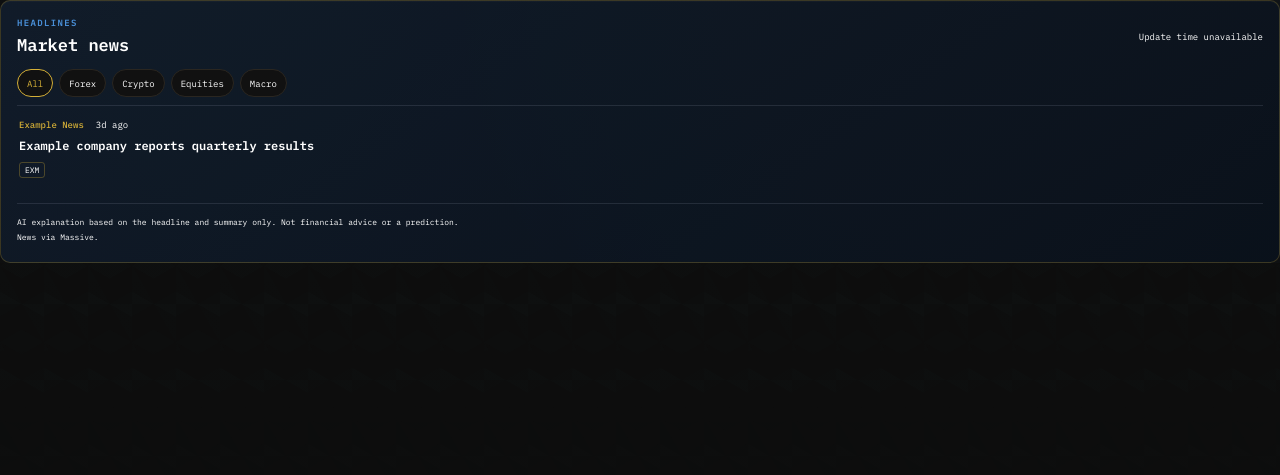
Test case: NewsFeed › shows an explanation rate-limit message and allows retry
expect the text "Example company reports quarterly results" is shown: met, box [19, 138, 314, 153]
Click the button "Example company reports quarterly results" at (51, 124), box [17, 106, 1263, 191]
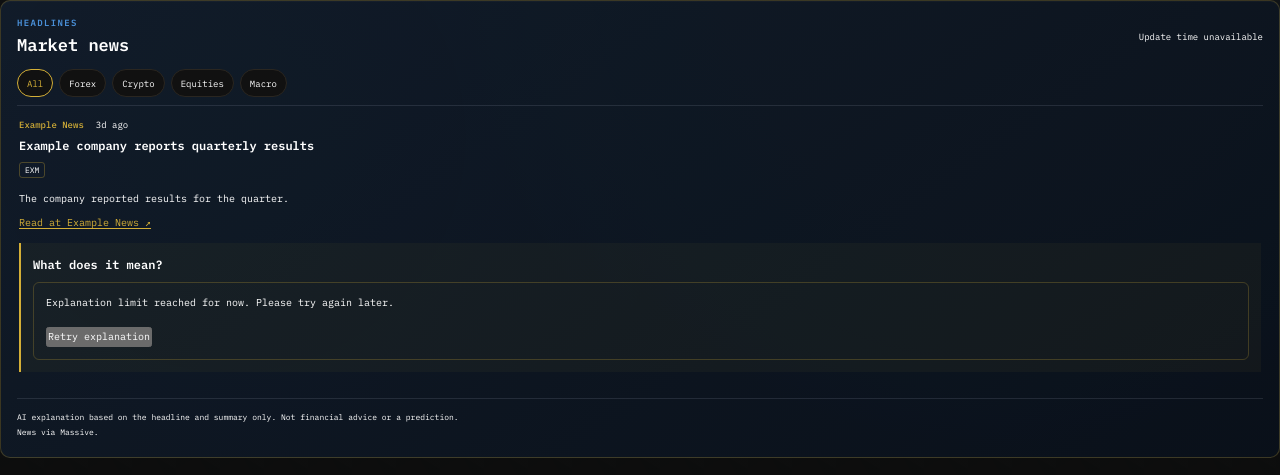
expect the text "Explanation limit reached for now. Please try again later." is shown: met, box [46, 296, 394, 309]
expect the button "Retry explanation" is shown: met, box [46, 327, 152, 347]
